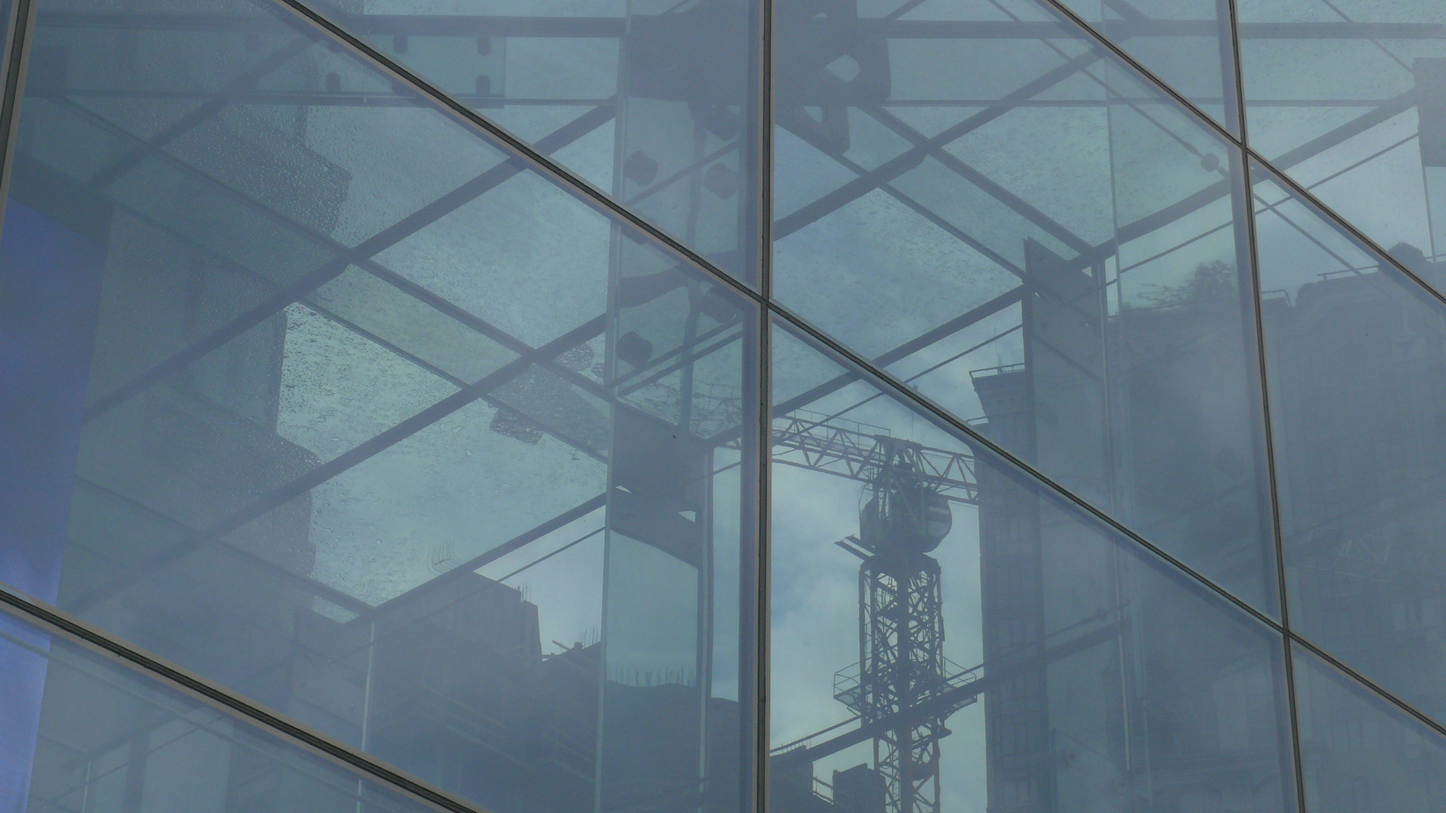glass_panel: (0, 0, 758, 813), (774, 0, 1278, 611), (769, 325, 1295, 813), (309, 0, 761, 284), (1252, 165, 1446, 719), (0, 613, 433, 813), (1238, 0, 1446, 273), (1293, 645, 1446, 813), (1061, 0, 1239, 134)
